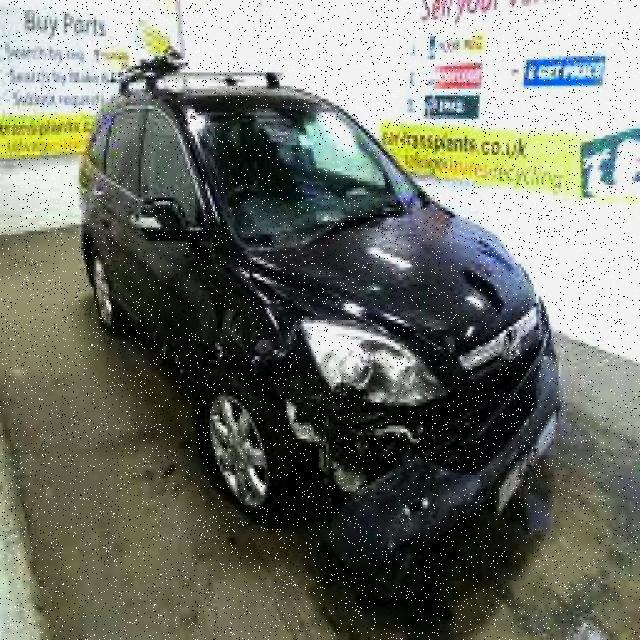car damage: (210, 262, 530, 597)
